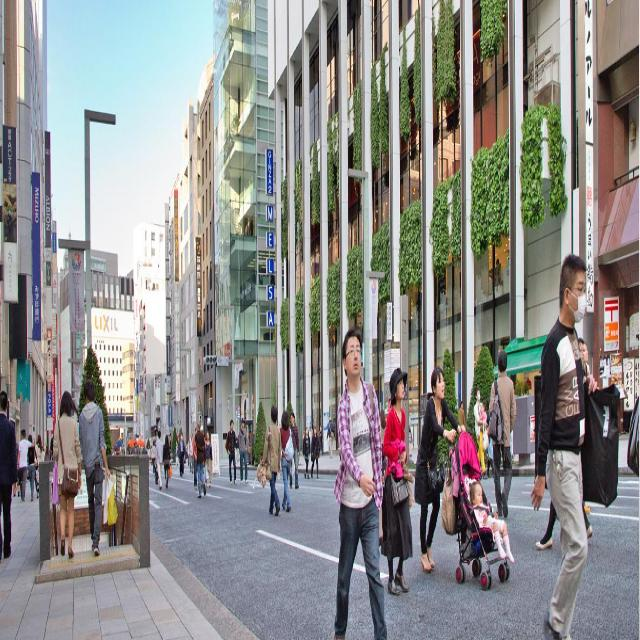body: (529, 248, 620, 639), (332, 325, 388, 640), (414, 360, 466, 573), (378, 366, 414, 597), (77, 378, 111, 556), (486, 346, 516, 520), (52, 387, 81, 561), (470, 480, 516, 564), (0, 391, 15, 564), (260, 401, 282, 518), (532, 501, 560, 561), (472, 386, 489, 477), (280, 409, 294, 514), (626, 390, 640, 488), (17, 428, 35, 503), (120, 438, 156, 470), (194, 418, 207, 500), (287, 410, 300, 490), (224, 416, 238, 485), (26, 433, 38, 504), (490, 250, 507, 296), (238, 416, 249, 484), (577, 331, 592, 378), (12, 435, 21, 508), (154, 430, 164, 492), (162, 432, 172, 491), (301, 426, 311, 480), (310, 426, 320, 480), (203, 430, 212, 489), (582, 497, 593, 544), (177, 432, 186, 478), (192, 426, 198, 492), (326, 416, 335, 460), (379, 409, 386, 464), (486, 436, 494, 476), (457, 399, 467, 430), (187, 431, 194, 475), (34, 433, 44, 463), (408, 417, 414, 459), (255, 457, 264, 483), (523, 376, 532, 402), (317, 424, 324, 456), (234, 312, 241, 342), (174, 438, 180, 472), (478, 398, 487, 420), (244, 214, 253, 236), (44, 441, 52, 462), (186, 436, 190, 467), (200, 424, 204, 435)
